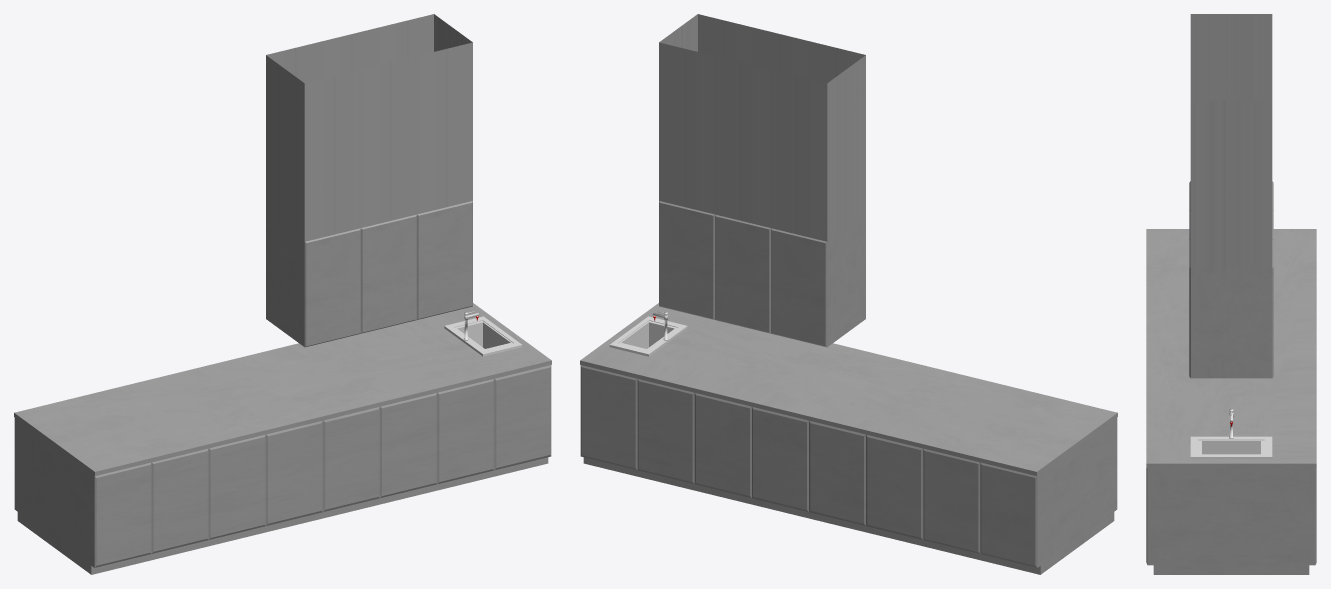
The model's file is final lab bench.fbx.
The picture shows the model from 3 angles, left to right: view 1: azimuth 30°, elevation 25°; view 2: azimuth 150°, elevation 25°; view 3: azimuth 270°, elevation 25°; orthographic projection. The views are drawn at different scales.
Visible parts, largest first — view 1: Cube.019, bench cabs, bench top, Cube.018; view 2: Cube.019, bench cabs, bench top, Cube.018; view 3: Cube.019, bench top, bench cabs, Cube.018.
Part boxes in pixels (x1,y1,x2,y2): Cube.019: [266, 14, 472, 347]; bench cabs: [14, 365, 551, 574]; bench top: [14, 303, 551, 475]; Cube.018: [444, 316, 522, 356]; Cube.019: [659, 14, 865, 347]; bench cabs: [580, 365, 1117, 574]; bench top: [580, 303, 1117, 475]; Cube.018: [609, 316, 687, 356]; Cube.019: [1189, 14, 1273, 378]; bench top: [1146, 229, 1316, 468]; bench cabs: [1146, 468, 1316, 574]; Cube.018: [1190, 436, 1272, 459].
Size of the model in its own units: 414 by 366 by 127.
